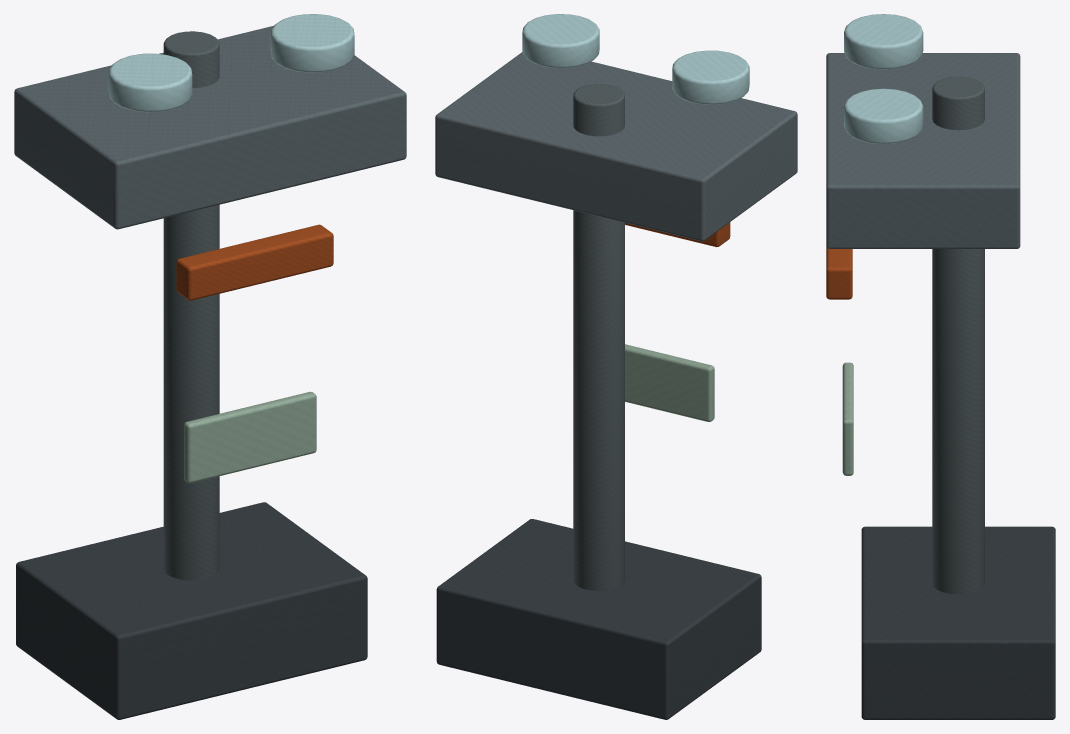
Rendered from EyewashStation.fbx.
The picture shows the model from 3 angles, left to right: view 1: azimuth 30°, elevation 25°; view 2: azimuth 150°, elevation 25°; view 3: azimuth 270°, elevation 25°; orthographic projection. The views are drawn at different scales.
Parts seen in each view (by area): view 1: EyewashStation_Mesh; view 2: EyewashStation_Mesh; view 3: EyewashStation_Mesh.
Boxes of the visible parts, left/top/right/bottom form: EyewashStation_Mesh: left=14, top=14, right=406, bottom=719; EyewashStation_Mesh: left=435, top=14, right=797, bottom=719; EyewashStation_Mesh: left=826, top=14, right=1055, bottom=719.
Bounding box in the file's own units: 72 × 149 × 52.
